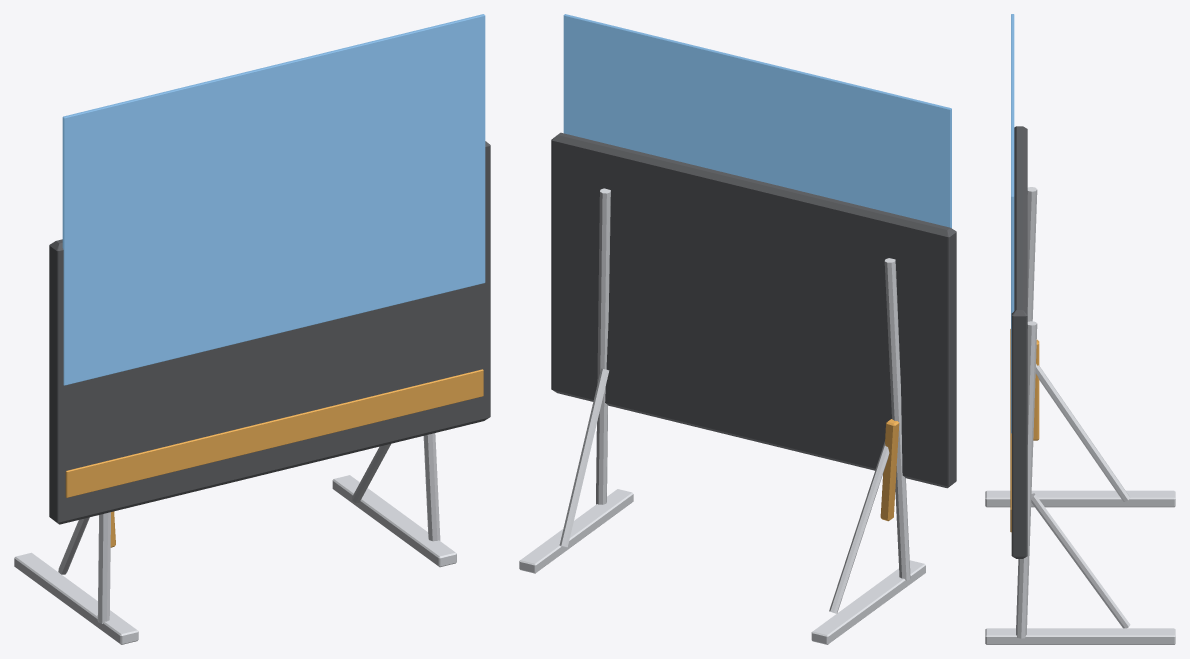
The model's file is 35491_Weather_Presentation_Screen__TV_Studio_and_Broadcast_Gallery_.glb.
3 renders of one model, left to right at view 1: azimuth 30°, elevation 25°; view 2: azimuth 150°, elevation 25°; view 3: azimuth 270°, elevation 25°, orthographic. The views are drawn at different scales.
Visible parts, largest first — view 1: weather-presentation-screen; view 2: weather-presentation-screen; view 3: weather-presentation-screen.
Boxes of the visible parts, x1=… form: weather-presentation-screen: x1=14, y1=14, x2=490, y2=644; weather-presentation-screen: x1=519, y1=14, x2=956, y2=644; weather-presentation-screen: x1=985, y1=14, x2=1175, y2=644.
Size of the model in its own units: 2.1 by 2.44 by 0.8999.
